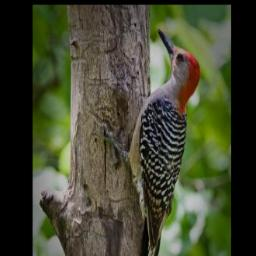Woodpecker: (89, 24, 209, 256)
